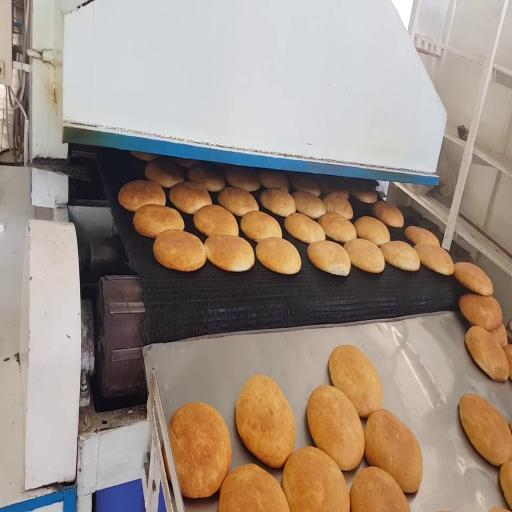bread: (169, 403, 231, 498), (236, 375, 295, 467), (307, 386, 364, 470), (365, 409, 422, 492), (282, 447, 350, 511), (329, 345, 383, 418), (459, 394, 511, 466), (219, 464, 289, 511), (350, 467, 410, 511), (465, 326, 509, 381), (153, 230, 206, 271), (205, 235, 254, 271), (256, 237, 301, 274), (133, 205, 184, 237), (459, 294, 502, 331), (118, 180, 166, 211), (308, 241, 350, 276), (344, 239, 385, 273), (194, 205, 238, 236), (170, 182, 211, 214), (454, 262, 493, 295), (414, 243, 454, 275), (241, 211, 282, 242), (145, 157, 184, 188), (285, 213, 325, 243), (380, 241, 420, 271), (218, 187, 258, 216), (318, 213, 356, 243), (354, 216, 390, 246), (188, 164, 225, 192), (260, 188, 295, 217), (292, 192, 326, 219), (225, 166, 260, 191), (323, 192, 353, 219), (373, 202, 403, 228), (290, 172, 321, 196), (405, 226, 440, 246), (320, 176, 349, 199), (259, 169, 289, 191), (500, 461, 511, 506), (350, 186, 377, 203), (489, 323, 508, 347), (503, 345, 511, 379), (130, 151, 157, 161), (174, 157, 198, 168), (490, 508, 509, 511)
